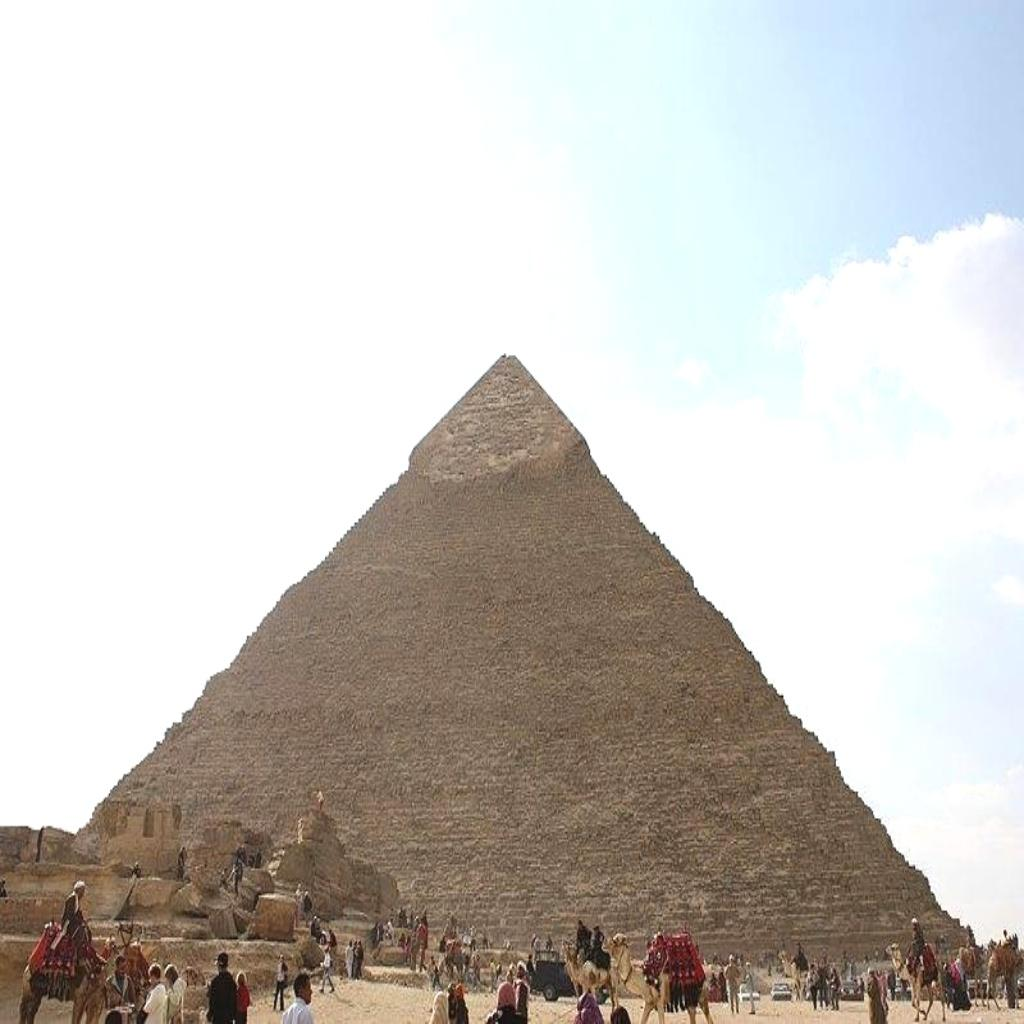Great Pyramids of Giza: (59, 340, 983, 968)
